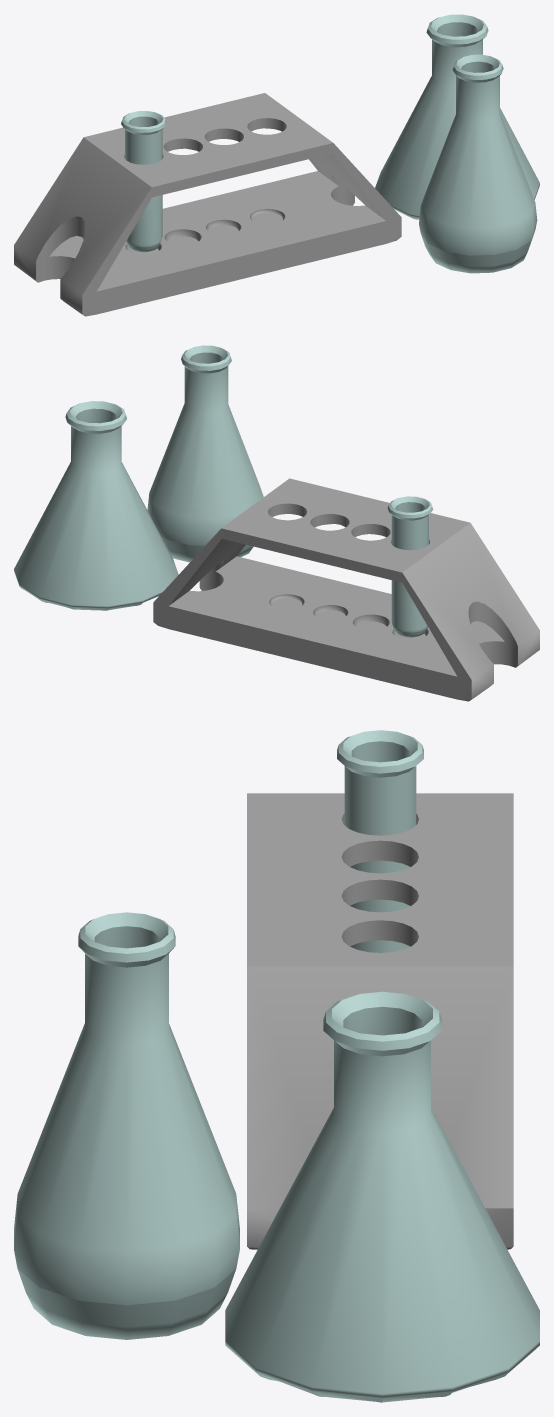
Rendered from FLASK_TUBES_001.fbx.
3 renders of one model, top to bottom at view 1: azimuth 30°, elevation 25°; view 2: azimuth 150°, elevation 25°; view 3: azimuth 270°, elevation 25°, orthographic. The views are drawn at different scales.
Visible parts, largest first — view 1: polySurface7, pCylinder1, pasted__pasted__pCylinder1, pasted__pCylinder1; view 2: polySurface7, pasted__pasted__pCylinder1, pCylinder1, pasted__pCylinder1; view 3: polySurface7, pasted__pasted__pCylinder1, pCylinder1, pasted__pCylinder1.
Part boxes in pixels (<box>): polySurface7: <box>14,93,401,316</box>; pCylinder1: <box>419,54,537,273</box>; pasted__pasted__pCylinder1: <box>375,14,539,219</box>; pasted__pCylinder1: <box>121,111,166,252</box>; polySurface7: <box>153,478,539,701</box>; pasted__pasted__pCylinder1: <box>14,401,178,610</box>; pCylinder1: <box>147,345,263,562</box>; pasted__pCylinder1: <box>387,496,432,637</box>; polySurface7: <box>247,793,513,1249</box>; pasted__pasted__pCylinder1: <box>225,991,539,1402</box>; pCylinder1: <box>14,912,239,1339</box>; pasted__pCylinder1: <box>337,730,423,952</box>.
Size of the model in its own units: 69.1 by 26.79 by 33.5.
